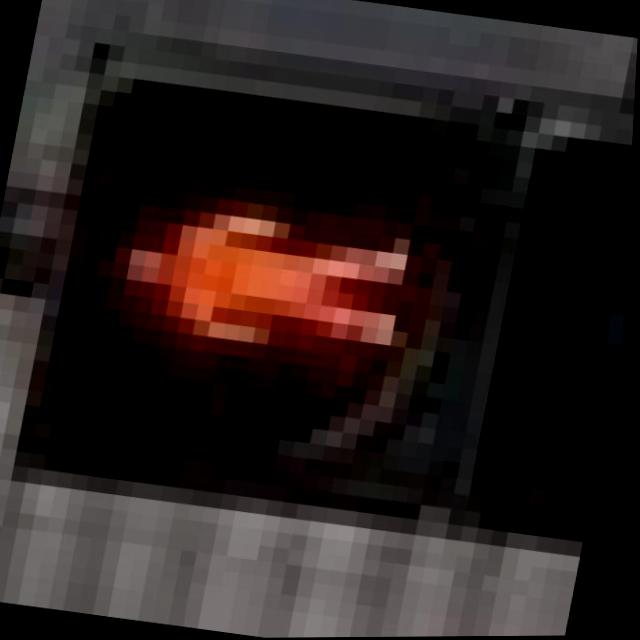red_light: (36, 115, 474, 415)
